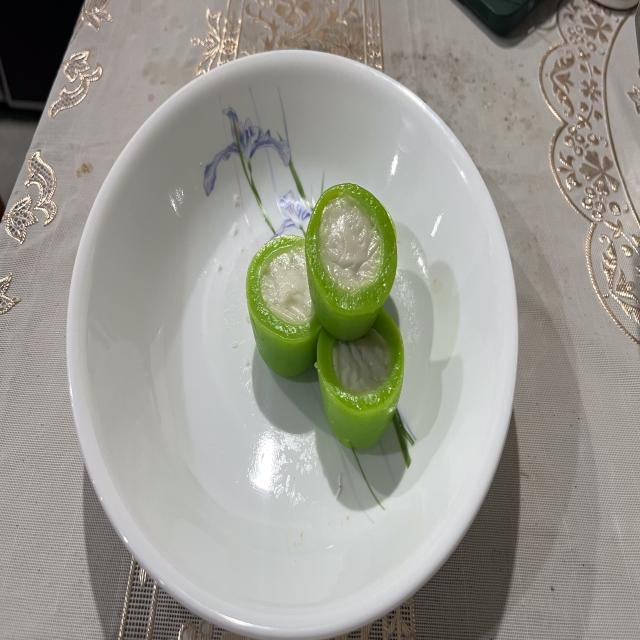nona-manis: (305, 182, 398, 340), (315, 311, 404, 449), (246, 236, 320, 376)
